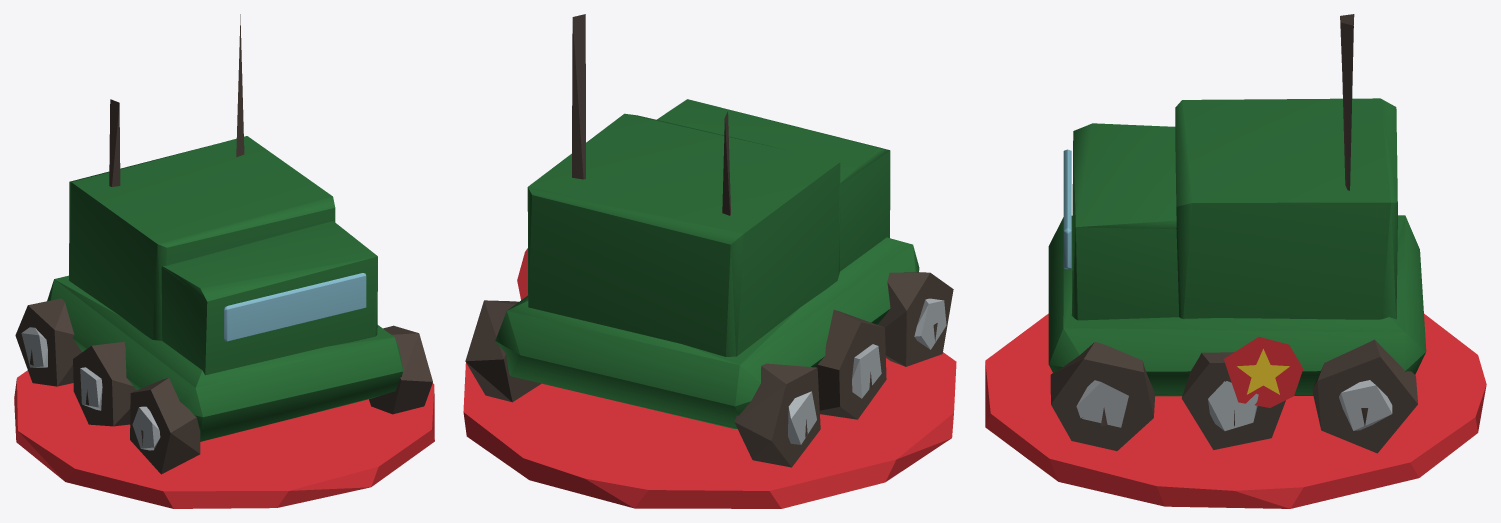
File: vietnam_headquarters_lod1.glb
3 views of the same model, side by side, from view 1: azimuth 30°, elevation 25°; view 2: azimuth 150°, elevation 25°; view 3: azimuth 270°, elevation 25° (orthographic). The views are drawn at different scales.
Visible parts, largest first — view 1: body_hull, base_pedestal; view 2: body_hull, base_pedestal; view 3: body_hull, base_pedestal.
Part boxes in pixels (x1,y1,x2,y2): body_hull: (15,14,432,474); base_pedestal: (14,370,434,508); body_hull: (465,14,953,467); base_pedestal: (463,352,956,508); body_hull: (1048,14,1426,453); base_pedestal: (985,313,1486,508).
Size of the model in its own units: 0.7751 by 0.7101 by 0.7751.
